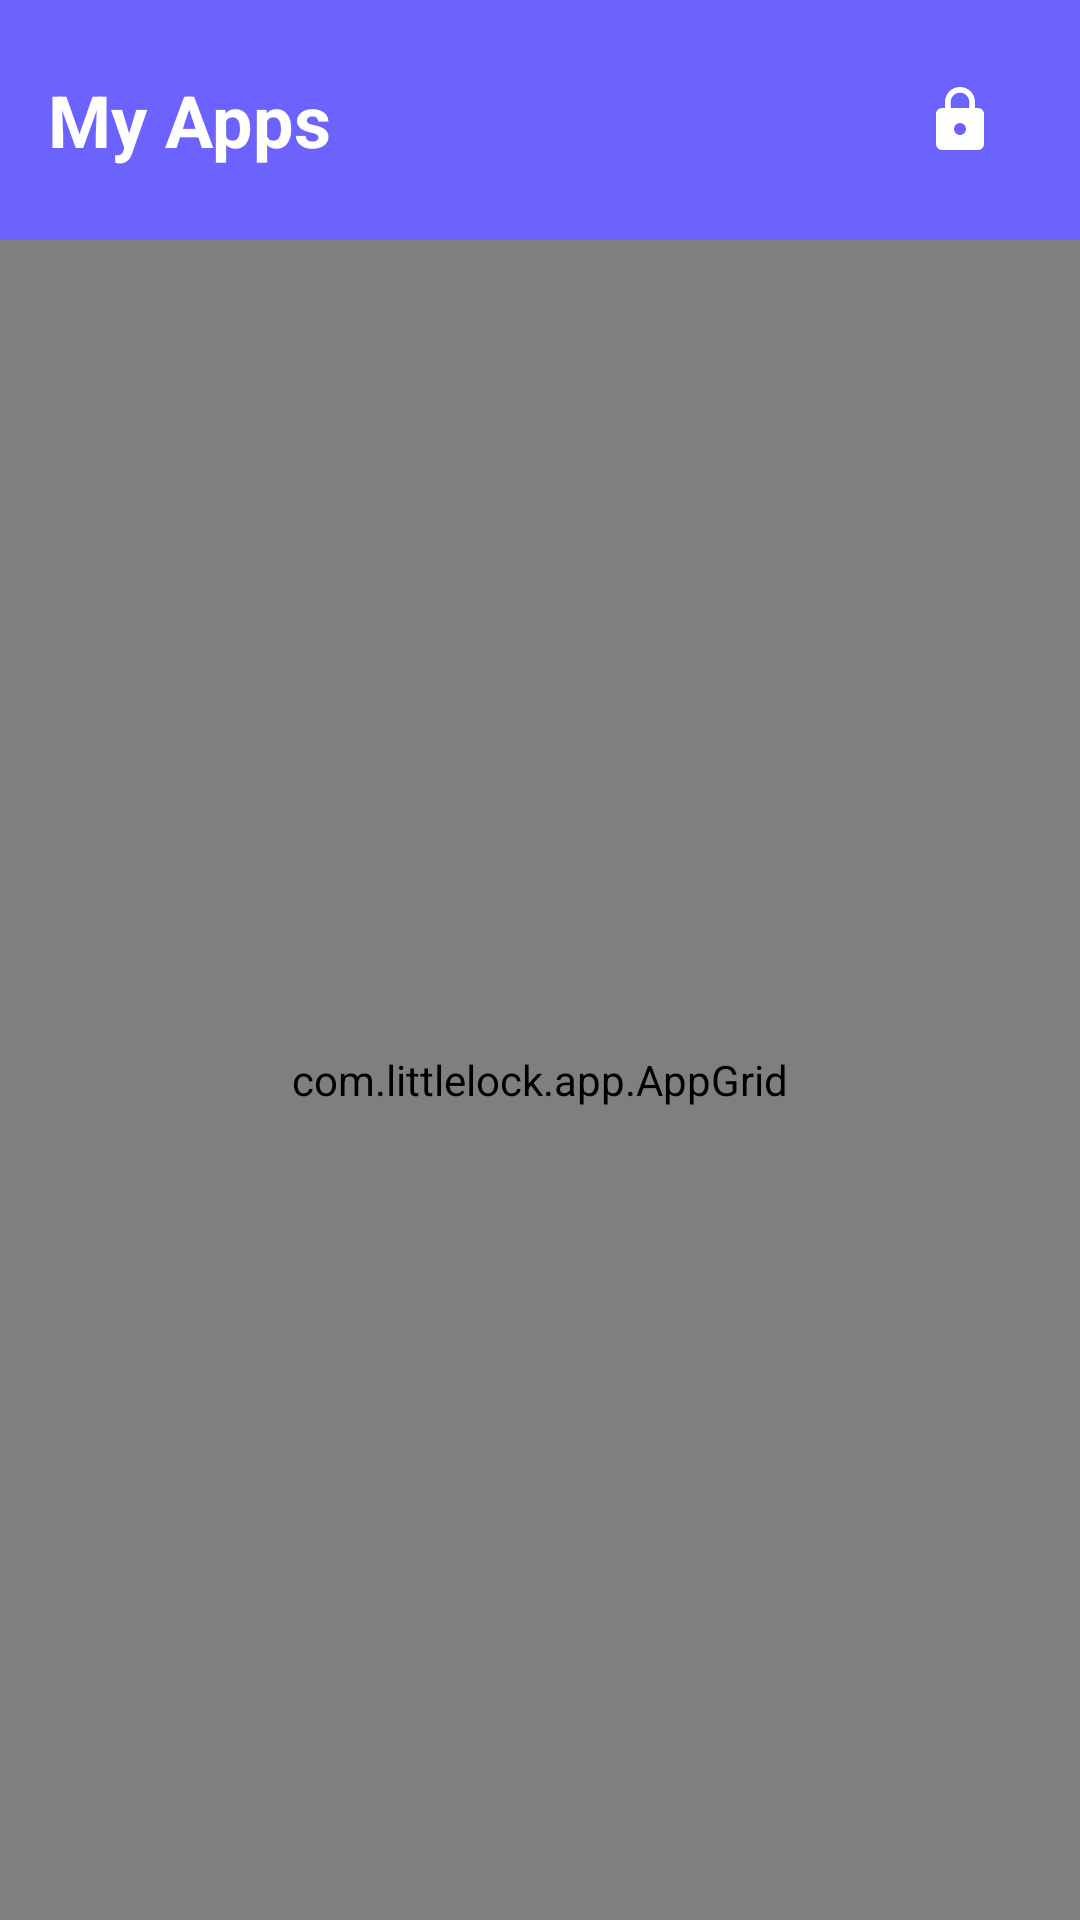

Locate icon controls on the screen. Image size 1080*1920, boxes as bbox=(x1, y1, x2, y2).
Parent settings (needs the parent PIN): bbox=(936, 87, 984, 150)
